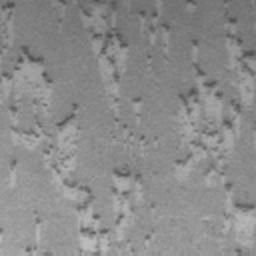Oxide scale of temperature system: (0, 3, 141, 256), (174, 17, 256, 248), (73, 0, 142, 132), (138, 9, 170, 45), (8, 159, 18, 188), (143, 232, 155, 247), (35, 218, 41, 243), (186, 0, 196, 8)
